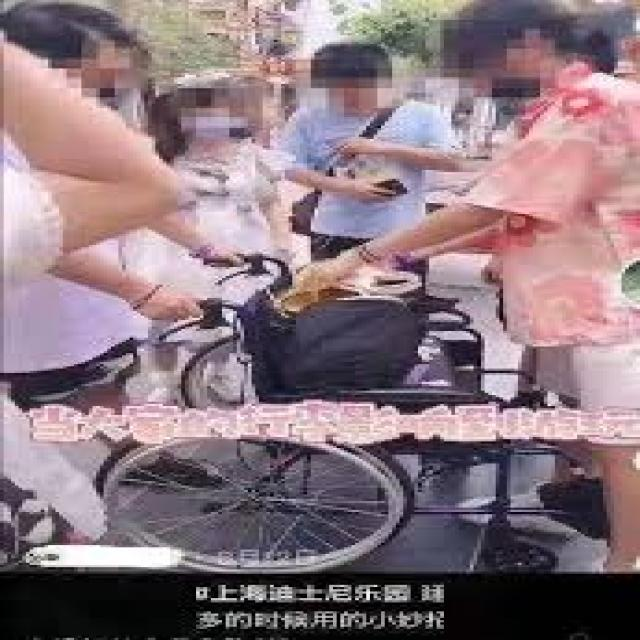wheelchairs: (141, 240, 599, 572)
